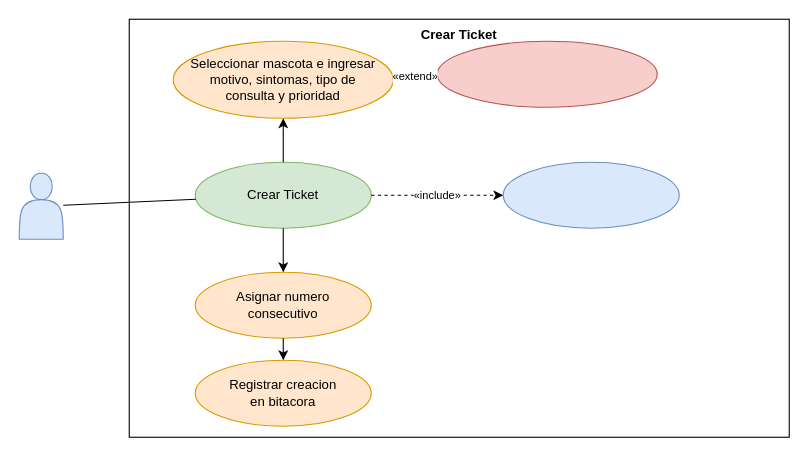
This 809x457 diagram has some shape labels left out. The shapes that lost their labels are listed below. From the top down, each one's box as (x1, y1, x2, y2) in pixels, then its label:
(436, 40, 657, 107): Notificar seleccion fuera de rango
(18, 172, 63, 239): Cliente
(502, 161, 679, 228): Asignar Ticket
